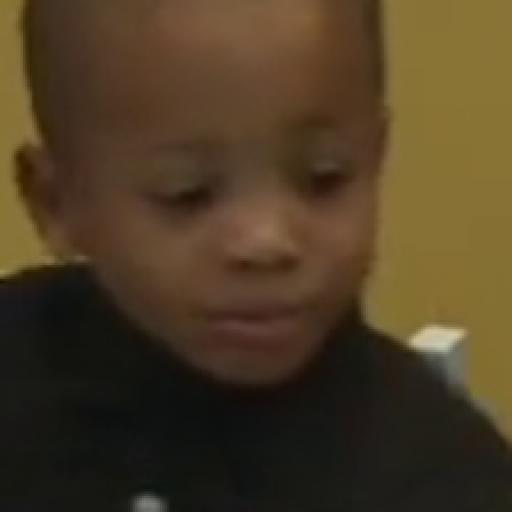Autism: (48, 34, 475, 502)
